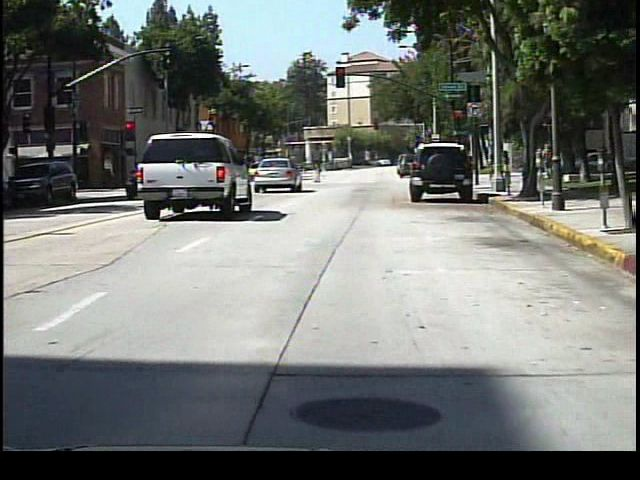person: (537, 140, 556, 183), (460, 152, 477, 184), (311, 156, 328, 185)
